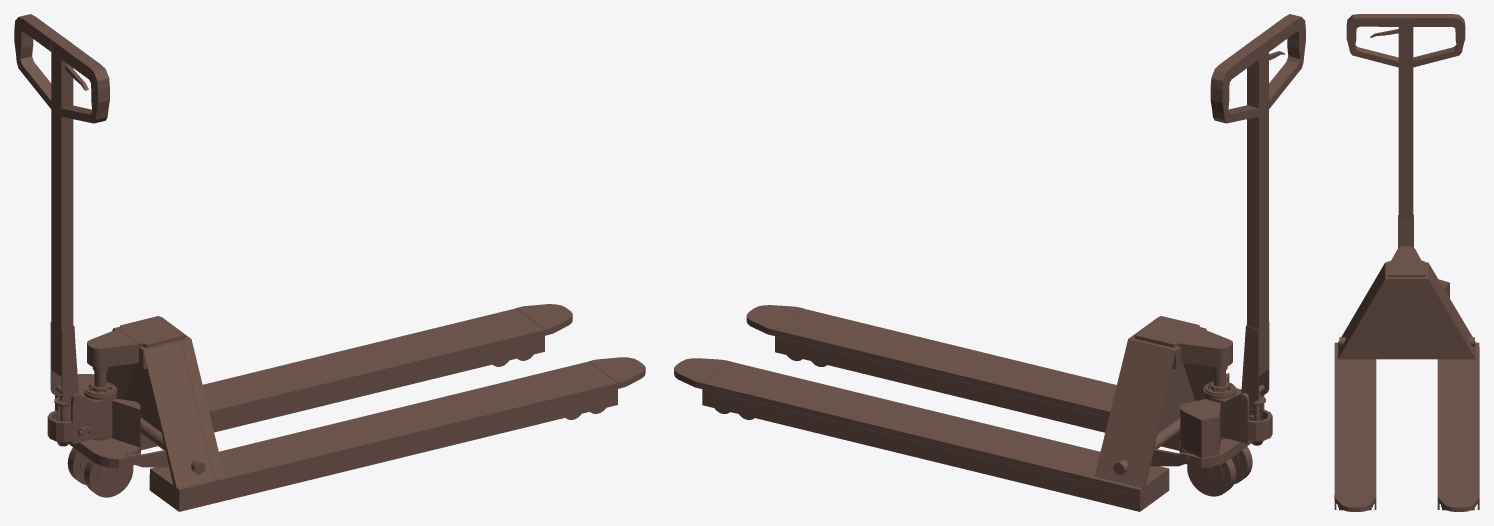
File: GCC-AAV-13220-30.nwd(12).fbx
3 views of the same model, side by side, from view 1: azimuth 30°, elevation 25°; view 2: azimuth 150°, elevation 25°; view 3: azimuth 270°, elevation 25° (orthographic). The views are drawn at different scales.
Visible parts, largest first — view 1: BOX 3 of EQUIPMENT /701-ME-062, BOX 6 of EQUIPMENT /701-ME-062, BOX 1 of EQUIPMENT /701-ME-062, BOX 43 of EQUIPMENT /701-ME-062, BOX 5 of EQUIPMENT /701-ME-062, EXTRUSION 9 of EQUIPMENT /701-ME-062, EXTRUSION 7 of EQUIPMENT /701-ME-062, EXTRUSION 27 of EQUIPMENT /701-ME-062, EXTRUSION 26 of EQUIPMENT /701-ME-062, EXTRUSION 17 of EQUIPMENT /701-ME-062, EXTRUSION 10 of EQUIPMENT /701-ME-062, EXTRUSION 12 of EQUIPMENT /701-ME-062 (+6 smaller); view 2: BOX 6 of EQUIPMENT /701-ME-062, BOX 3 of EQUIPMENT /701-ME-062, BOX 7 of EQUIPMENT /701-ME-062, BOX 43 of EQUIPMENT /701-ME-062, BOX 2 of EQUIPMENT /701-ME-062, EXTRUSION 8 of EQUIPMENT /701-ME-062, EXTRUSION 7 of EQUIPMENT /701-ME-062, EXTRUSION 13 of EQUIPMENT /701-ME-062, EXTRUSION 27 of EQUIPMENT /701-ME-062, EXTRUSION 26 of EQUIPMENT /701-ME-062, EXTRUSION 10 of EQUIPMENT /701-ME-062, EXTRUSION 11 of EQUIPMENT /701-ME-062 (+7 smaller); view 3: EXTRUSION 7 of EQUIPMENT /701-ME-062, BOX 3 of EQUIPMENT /701-ME-062, BOX 6 of EQUIPMENT /701-ME-062, BOX 43 of EQUIPMENT /701-ME-062, EXTRUSION 27 of EQUIPMENT /701-ME-062, EXTRUSION 26 of EQUIPMENT /701-ME-062, EXTRUSION 11 of EQUIPMENT /701-ME-062, EXTRUSION 2 of EQUIPMENT /701-ME-062, EXTRUSION 1 of EQUIPMENT /701-ME-062, EXTRUSION 8 of EQUIPMENT /701-ME-062, EXTRUSION 9 of EQUIPMENT /701-ME-062, EXTRUSION 25 of EQUIPMENT /701-ME-062 (+1 smaller).
Boxes of the visible parts, x1,y1,x2,y2 form: BOX 3 of EQUIPMENT /701-ME-062: [150, 361, 617, 495]; BOX 6 of EQUIPMENT /701-ME-062: [141, 308, 545, 434]; BOX 1 of EQUIPMENT /701-ME-062: [178, 389, 617, 511]; BOX 43 of EQUIPMENT /701-ME-062: [51, 37, 73, 376]; BOX 5 of EQUIPMENT /701-ME-062: [140, 336, 544, 450]; EXTRUSION 9 of EQUIPMENT /701-ME-062: [143, 341, 213, 488]; EXTRUSION 7 of EQUIPMENT /701-ME-062: [124, 316, 224, 478]; EXTRUSION 27 of EQUIPMENT /701-ME-062: [14, 14, 62, 108]; EXTRUSION 26 of EQUIPMENT /701-ME-062: [61, 44, 109, 123]; EXTRUSION 17 of EQUIPMENT /701-ME-062: [56, 389, 111, 444]; EXTRUSION 10 of EQUIPMENT /701-ME-062: [87, 329, 138, 367]; EXTRUSION 12 of EQUIPMENT /701-ME-062: [69, 438, 140, 468]; BOX 6 of EQUIPMENT /701-ME-062: [702, 362, 1169, 495]; BOX 3 of EQUIPMENT /701-ME-062: [775, 309, 1180, 434]; BOX 7 of EQUIPMENT /701-ME-062: [702, 389, 1140, 511]; BOX 43 of EQUIPMENT /701-ME-062: [1247, 37, 1268, 376]; BOX 2 of EQUIPMENT /701-ME-062: [775, 336, 1180, 450]; EXTRUSION 8 of EQUIPMENT /701-ME-062: [1105, 341, 1175, 488]; EXTRUSION 7 of EQUIPMENT /701-ME-062: [1094, 317, 1195, 478]; EXTRUSION 13 of EQUIPMENT /701-ME-062: [1180, 399, 1220, 457]; EXTRUSION 27 of EQUIPMENT /701-ME-062: [1210, 44, 1259, 123]; EXTRUSION 26 of EQUIPMENT /701-ME-062: [1257, 14, 1305, 108]; EXTRUSION 10 of EQUIPMENT /701-ME-062: [1181, 328, 1232, 367]; EXTRUSION 11 of EQUIPMENT /701-ME-062: [1134, 316, 1201, 347]; EXTRUSION 7 of EQUIPMENT /701-ME-062: [1338, 275, 1475, 359]; BOX 3 of EQUIPMENT /701-ME-062: [1334, 342, 1376, 494]; BOX 6 of EQUIPMENT /701-ME-062: [1437, 342, 1479, 494]; BOX 43 of EQUIPMENT /701-ME-062: [1398, 14, 1413, 218]; EXTRUSION 27 of EQUIPMENT /701-ME-062: [1413, 14, 1465, 67]; EXTRUSION 26 of EQUIPMENT /701-ME-062: [1346, 14, 1398, 67]; EXTRUSION 11 of EQUIPMENT /701-ME-062: [1387, 260, 1425, 277]; EXTRUSION 2 of EQUIPMENT /701-ME-062: [1437, 494, 1479, 511]; EXTRUSION 1 of EQUIPMENT /701-ME-062: [1334, 494, 1376, 511]; EXTRUSION 8 of EQUIPMENT /701-ME-062: [1428, 263, 1475, 354]; EXTRUSION 9 of EQUIPMENT /701-ME-062: [1338, 263, 1385, 354]; EXTRUSION 25 of EQUIPMENT /701-ME-062: [1398, 218, 1413, 247].
Bounding box in the file's own units: 60.51 × 47.53 × 19.27.
